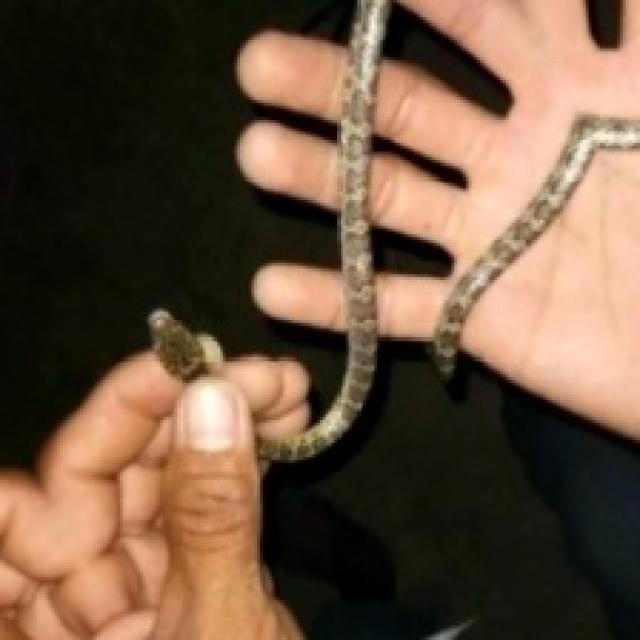mullers wolf snake: (254, 0, 637, 457), (237, 29, 346, 209), (340, 0, 386, 137)
